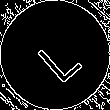L_NW: (27, 26, 83, 84)
